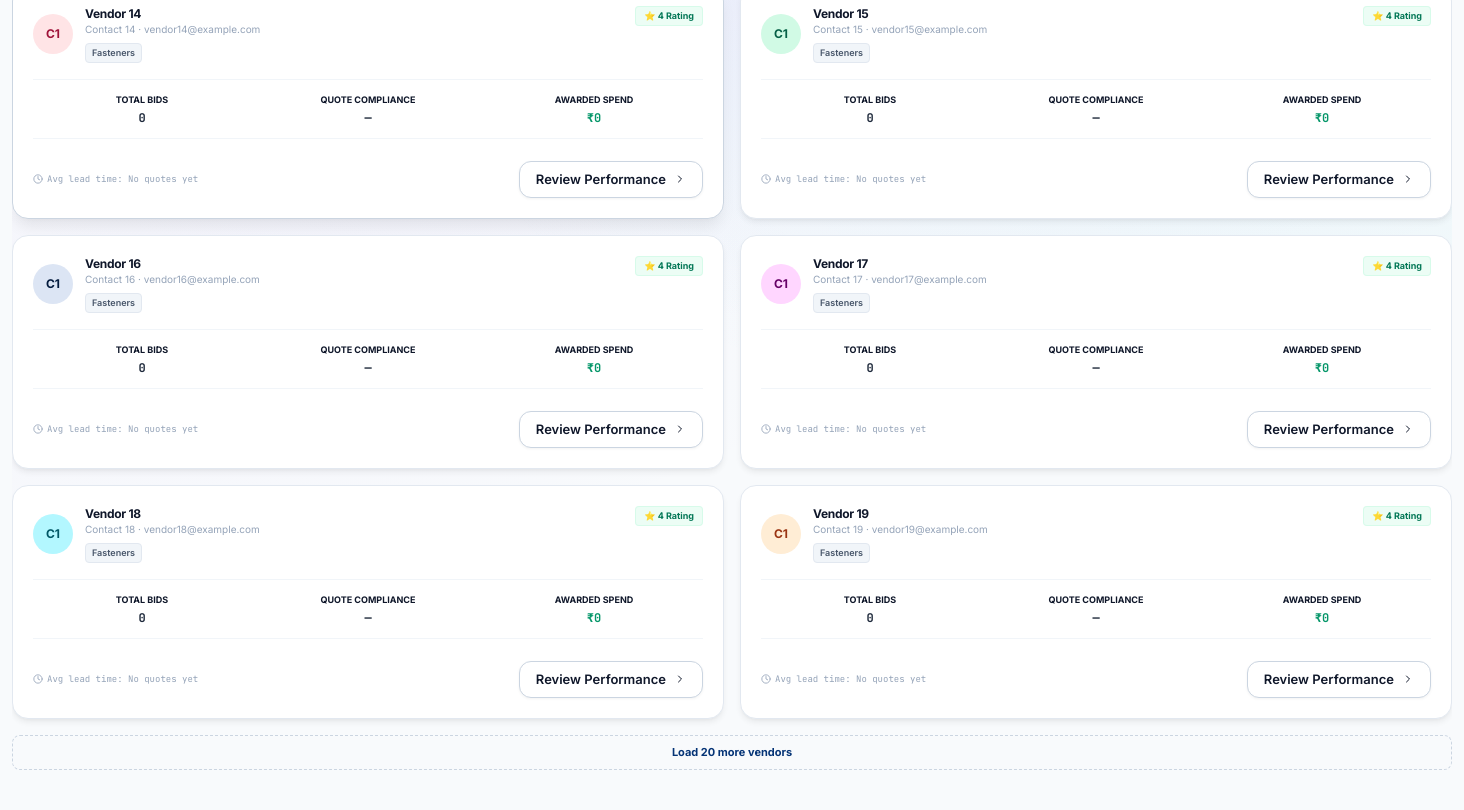
Test: VendorConsole — pagination over a large vendor roster › renders only the first page of cards, with a Load More button, and appends the next page on click
(page scrolled)
expect the text "Vendor 19" is shown: met, box top-left (813, 506), bottom-right (869, 521)
expect the text "Vendor 20" is not shown: met
Click the button with test id "load-more-vendor-cards" at [732, 752], box top-left (12, 735), bottom-right (1452, 770)
(page scrolled)
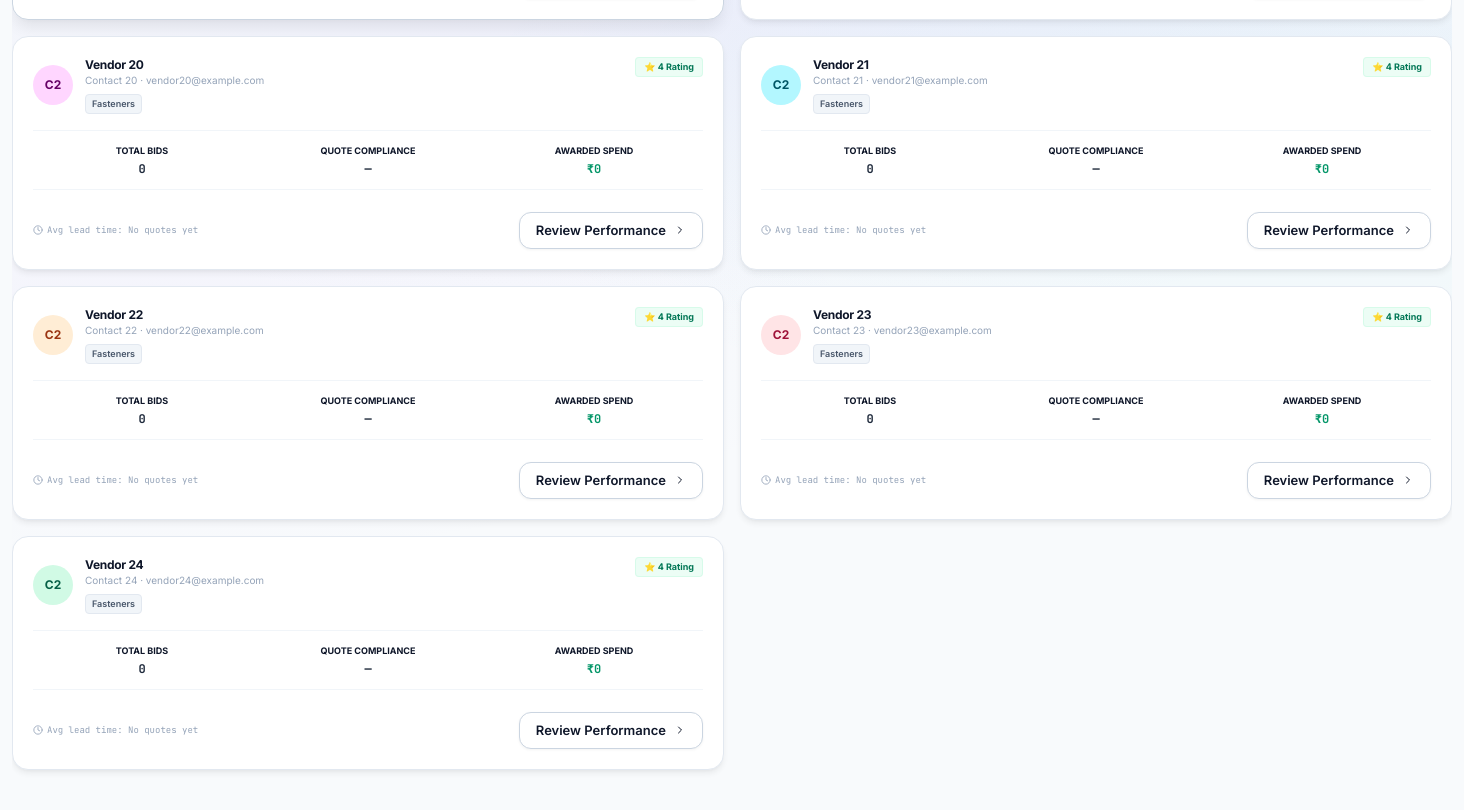
expect the text "Vendor 20" is shown: met, box top-left (85, 57), bottom-right (144, 72)
expect the text "Vendor 24" is shown: met, box top-left (85, 557), bottom-right (143, 572)
expect the button with test id "load-more-vendor-cards" is gone: met
